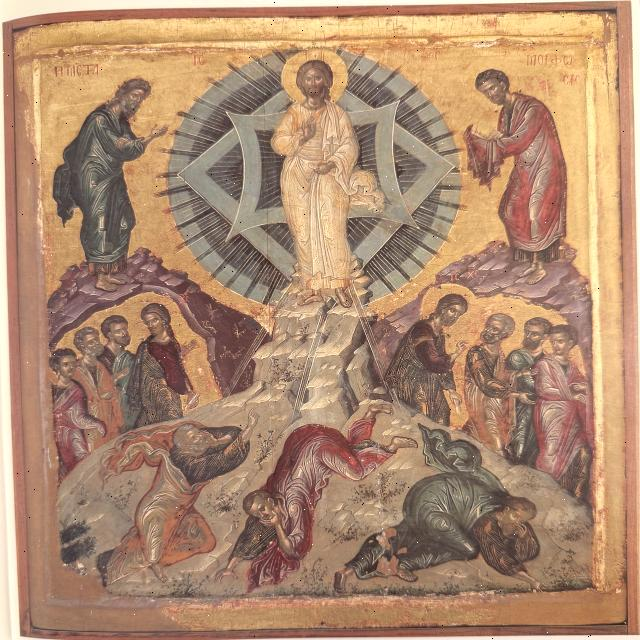aura: (280, 49, 354, 109)
christ_pantocrator: (171, 43, 465, 298)
